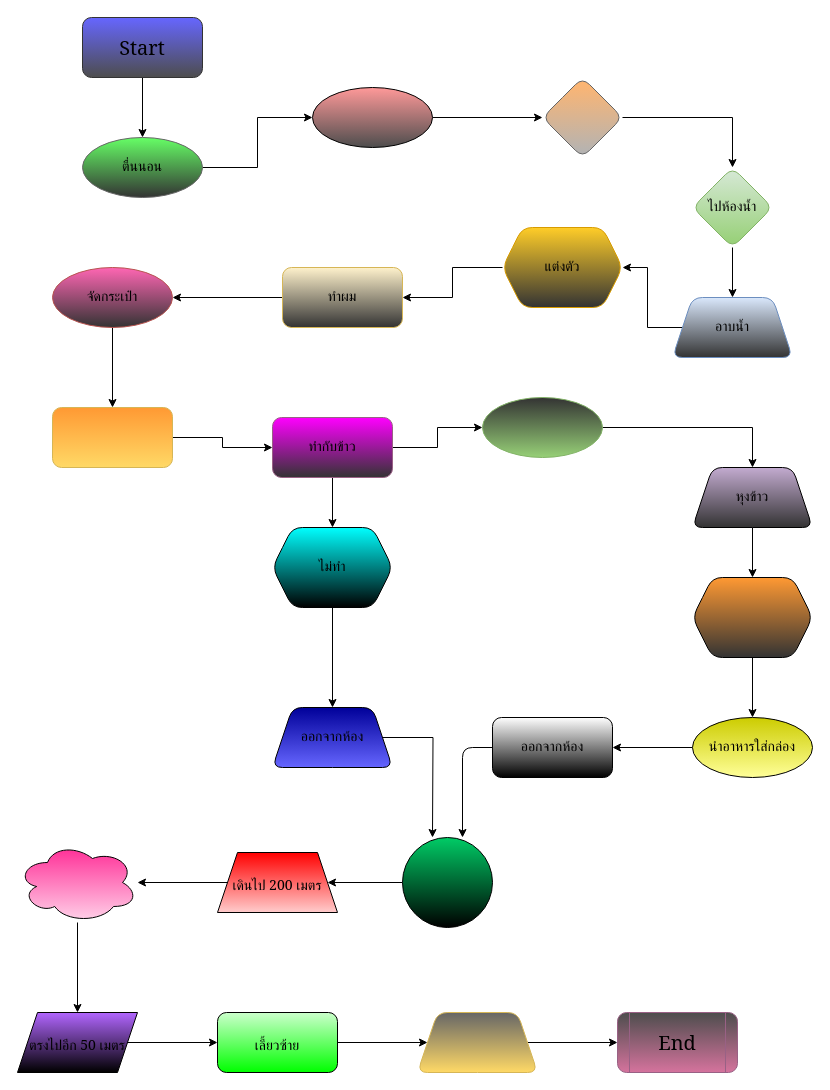
Some shapes in this 830 by 1090 pixel diagram are drawn without their labels. The shapes that lost their labels are listed below. From the top down, each one's box as (x1, y1, x2, y2) in pixels, then its label:
(312, 86, 432, 148): เก็บที่นอน
(542, 76, 622, 158): ลุกจากที่นอน
(52, 406, 172, 468): จัดตารางเรียน ตารางสอน
(482, 396, 602, 458): ทำ
(692, 576, 812, 658): ทำอาหาร
(16, 842, 138, 922): เลี้ยวขวา
(402, 836, 492, 928): go to School
(416, 1012, 538, 1072): School
